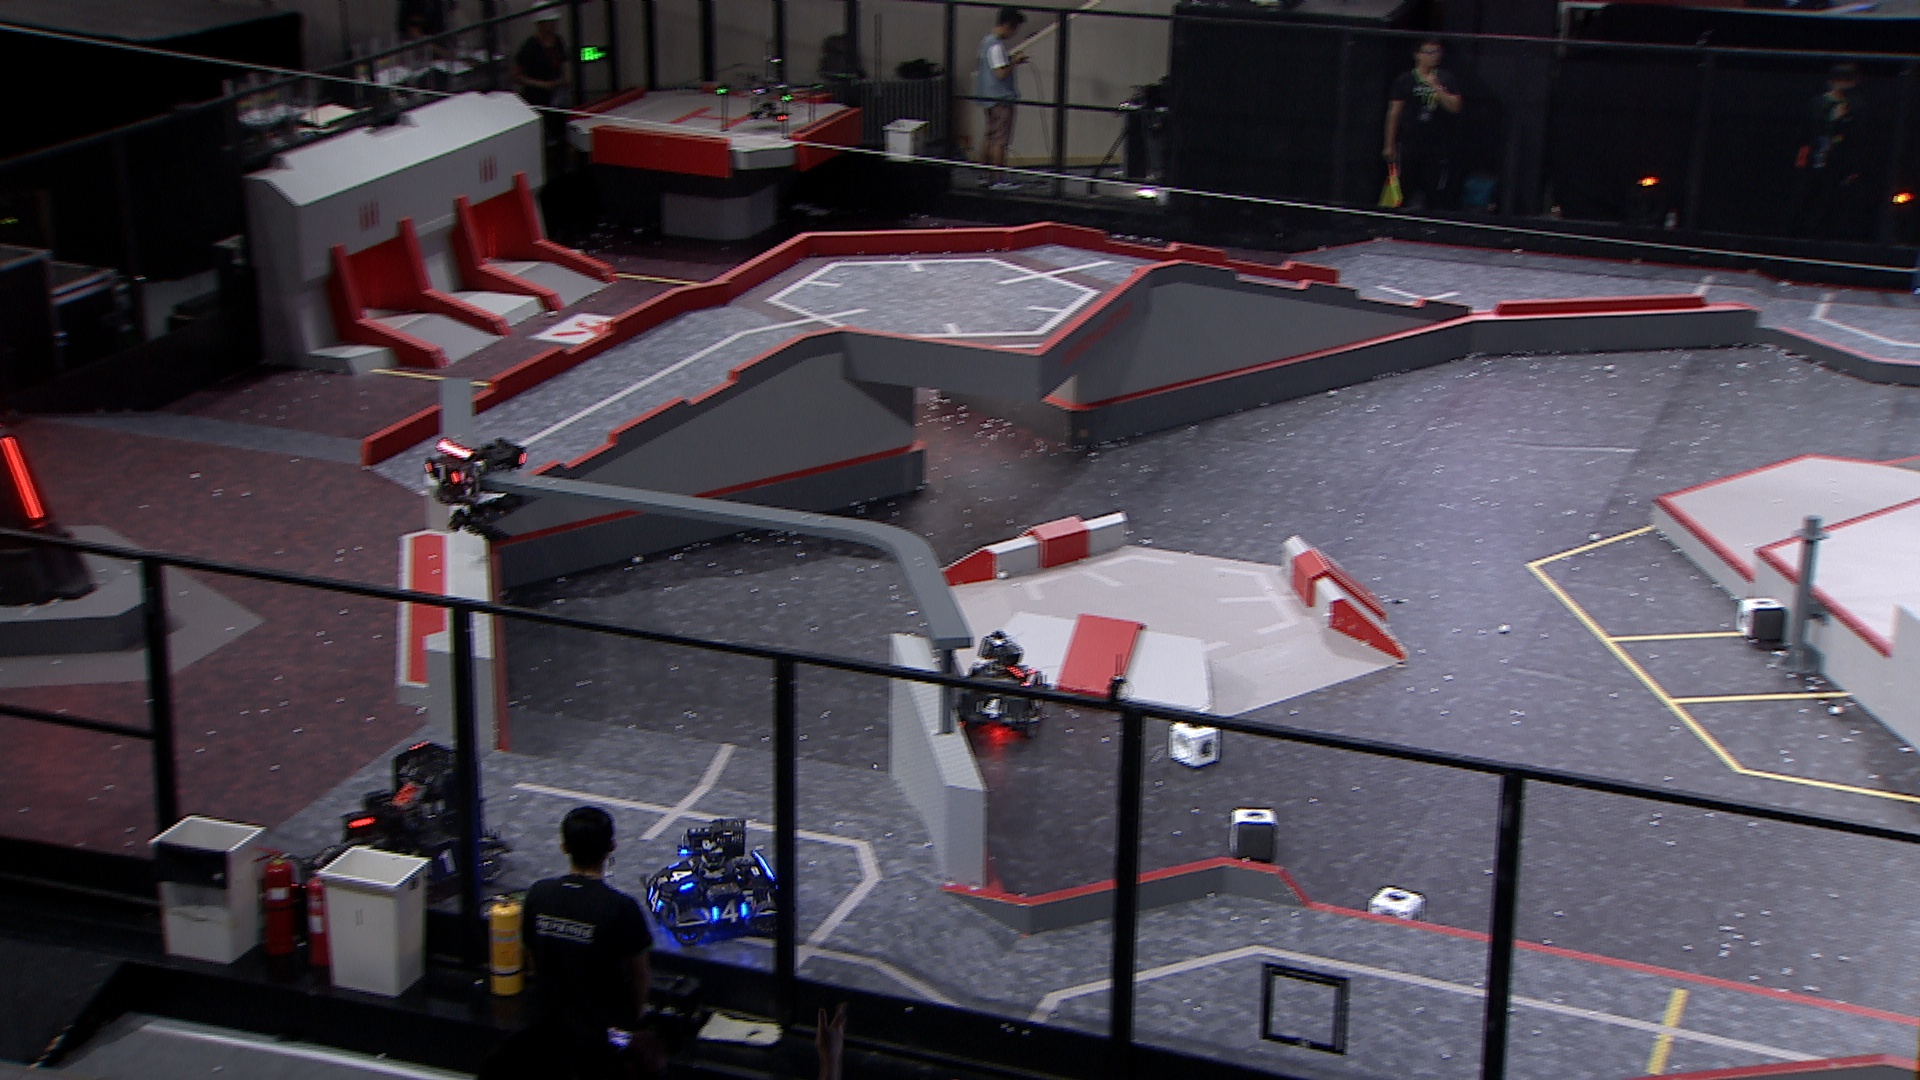armor: (0, 433, 45, 522), (425, 847, 462, 878), (423, 460, 462, 488), (712, 897, 749, 924), (667, 861, 698, 894), (972, 698, 1011, 721), (645, 884, 667, 916)
car: (305, 741, 510, 913), (640, 816, 789, 945), (951, 633, 1046, 741)
watcher: (422, 434, 527, 541)
